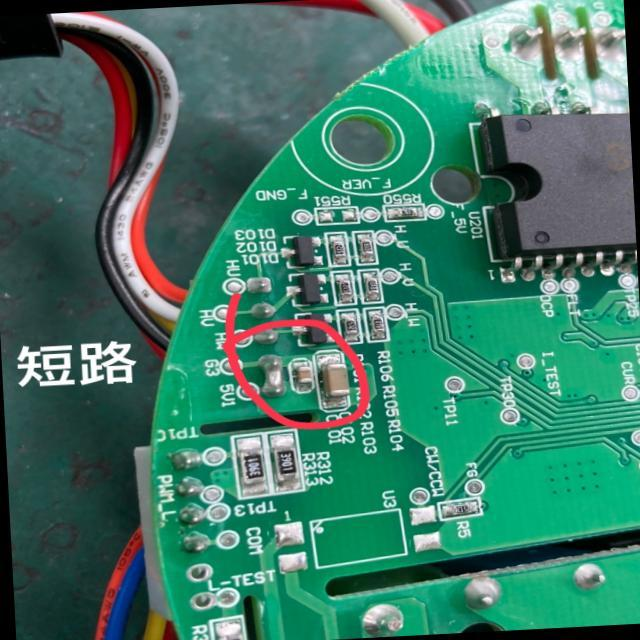Short_circuit: (259, 355, 285, 397)
